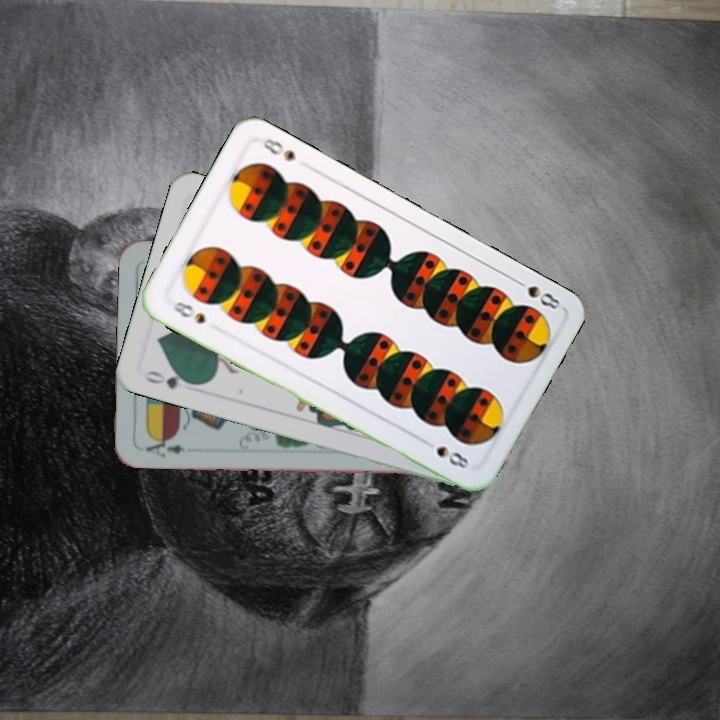EA: (141, 433, 188, 460)
GO: (141, 366, 199, 392)
S8: (509, 274, 563, 312), (164, 297, 208, 327)
